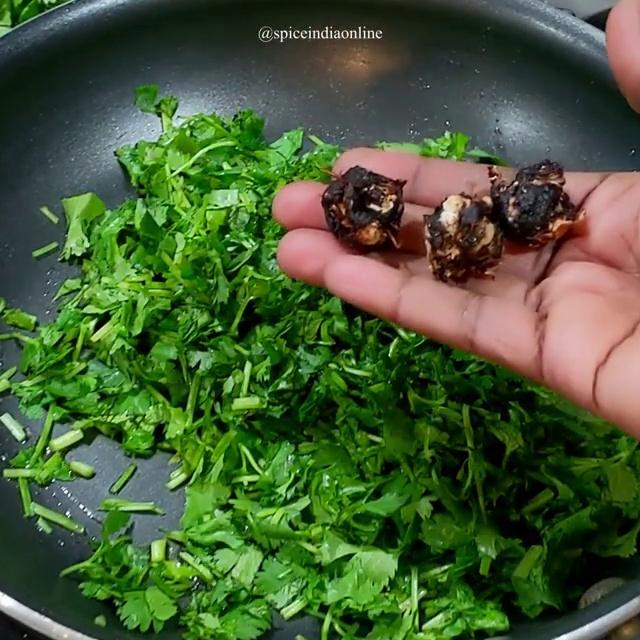cilantro: (152, 307, 430, 640)
